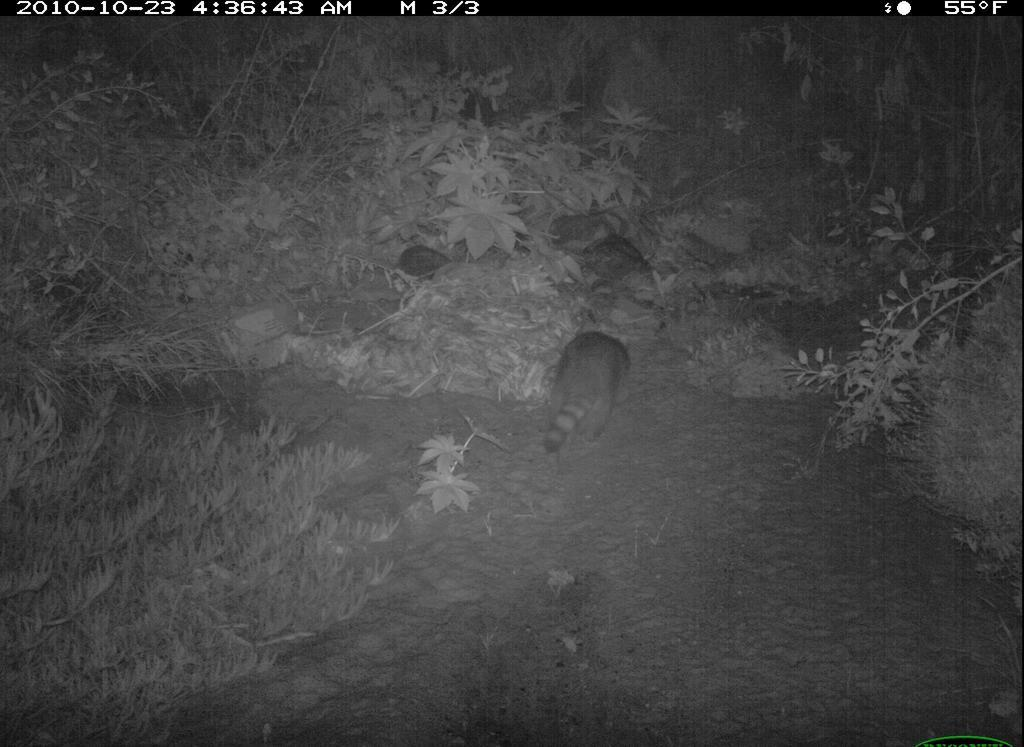raccoon: (536, 327, 637, 459)
